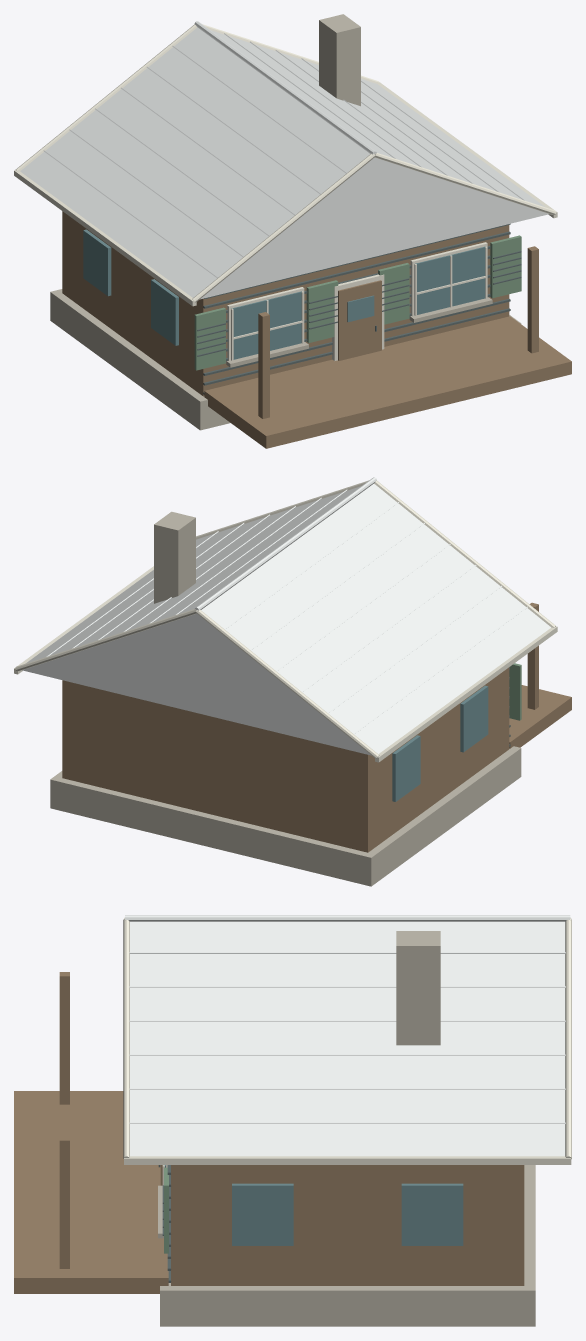
3 views of the same model, one above another, from view 1: azimuth 30°, elevation 25°; view 2: azimuth 150°, elevation 25°; view 3: azimuth 270°, elevation 25° (orthographic). The views are drawn at different scales.
Size of the model in its own units: 11.93 by 8.5 by 12.62.
